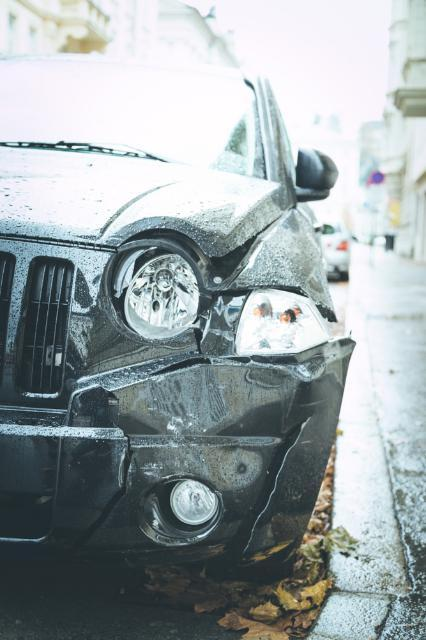crack: (223, 413, 315, 559), (58, 434, 134, 564), (148, 325, 217, 377)
lamp broken: (116, 245, 198, 341), (234, 289, 332, 354)
